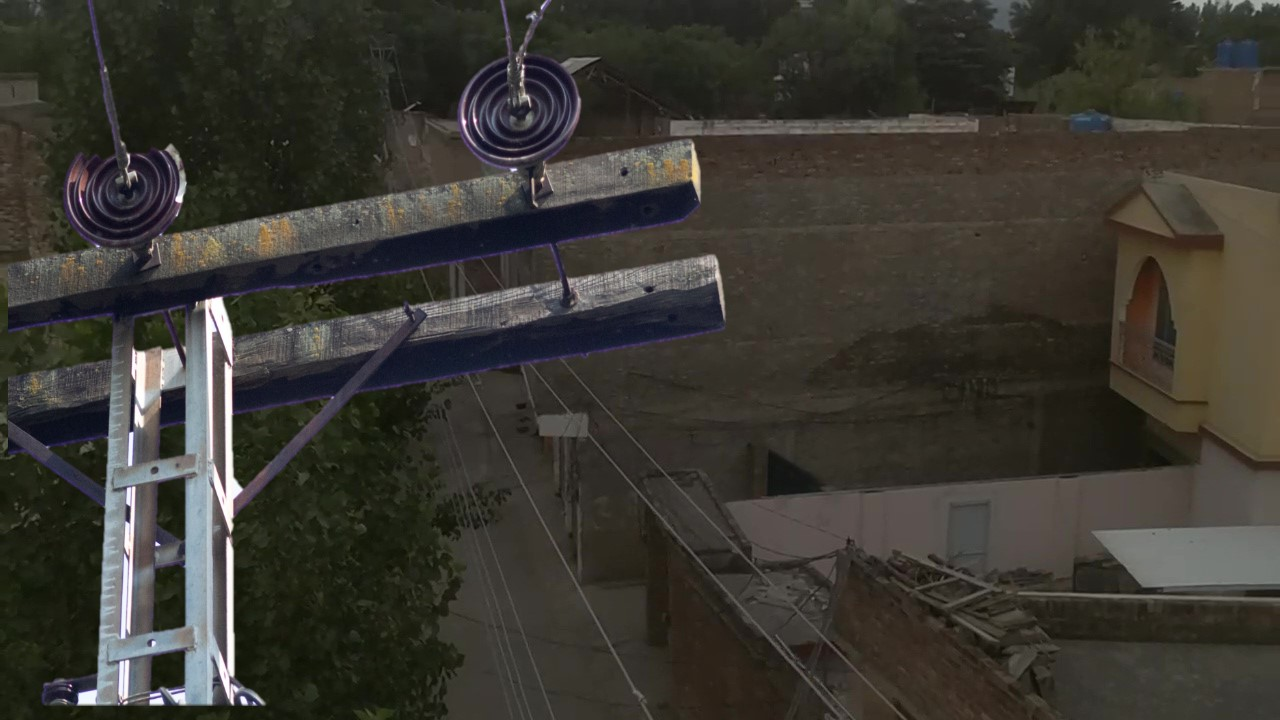defect_disc: (62, 136, 195, 248)
insulator_disc: (447, 56, 587, 164)
